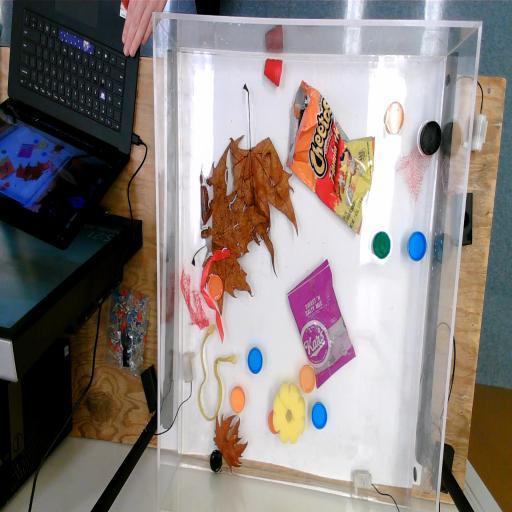Bottle Cap: (420, 120, 442, 158), (384, 99, 405, 136), (407, 230, 428, 262), (372, 230, 391, 260), (299, 363, 317, 394), (206, 271, 224, 300), (311, 401, 328, 430), (248, 346, 264, 375), (230, 385, 246, 413), (209, 448, 224, 474), (268, 407, 280, 434)
Cone Cap: (264, 56, 284, 88)
Leaf: (228, 80, 300, 278), (192, 134, 269, 318), (212, 410, 248, 473)
Netting: (394, 141, 433, 203), (180, 264, 210, 331)
Plastic Bag: (286, 78, 376, 239), (287, 256, 359, 390)
Plastic Strand: (198, 323, 237, 422), (199, 246, 231, 343)
Sponge: (272, 381, 308, 444)
